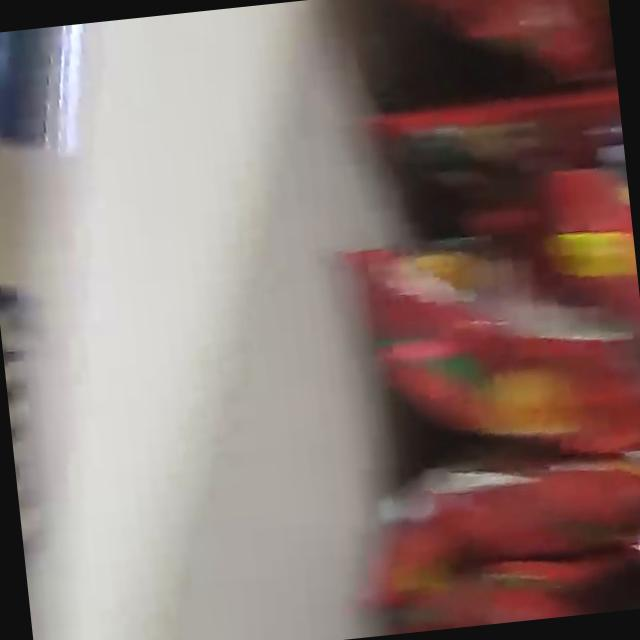masala: (277, 0, 640, 639)
